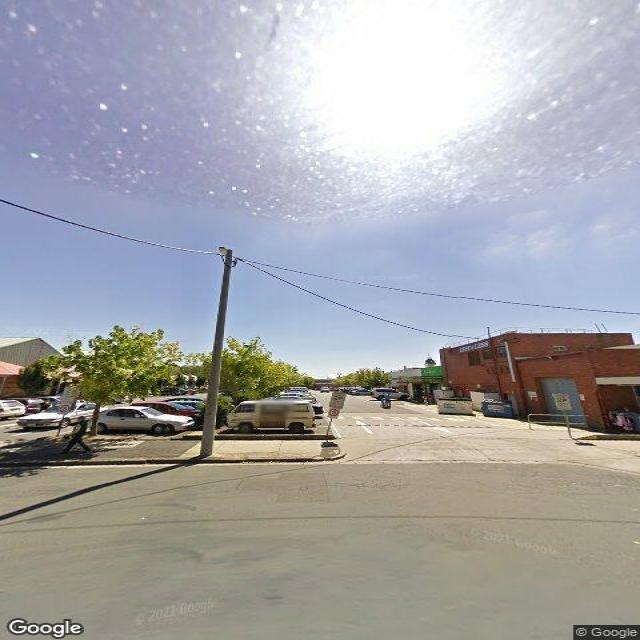streetlight: (219, 247, 227, 255)
timber-pole: (199, 249, 233, 457)
